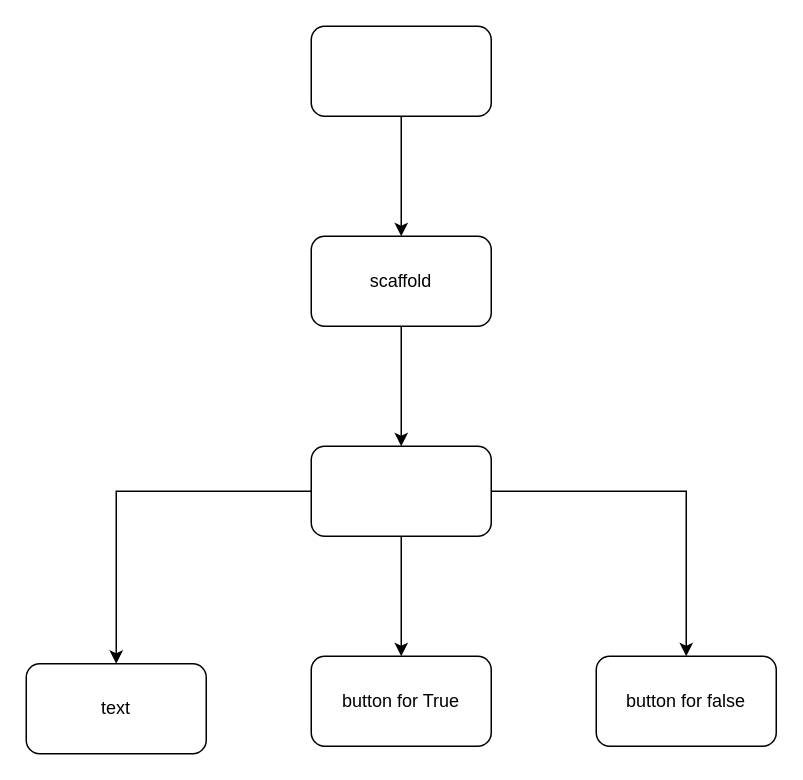
Image size: 803x780. Some labels were removed from this diagram. The box of each missing label's shape, as (x1, y1, x2, y2) in pixels:
body: (310, 445, 491, 536)
matrialapp: (310, 25, 491, 116)
